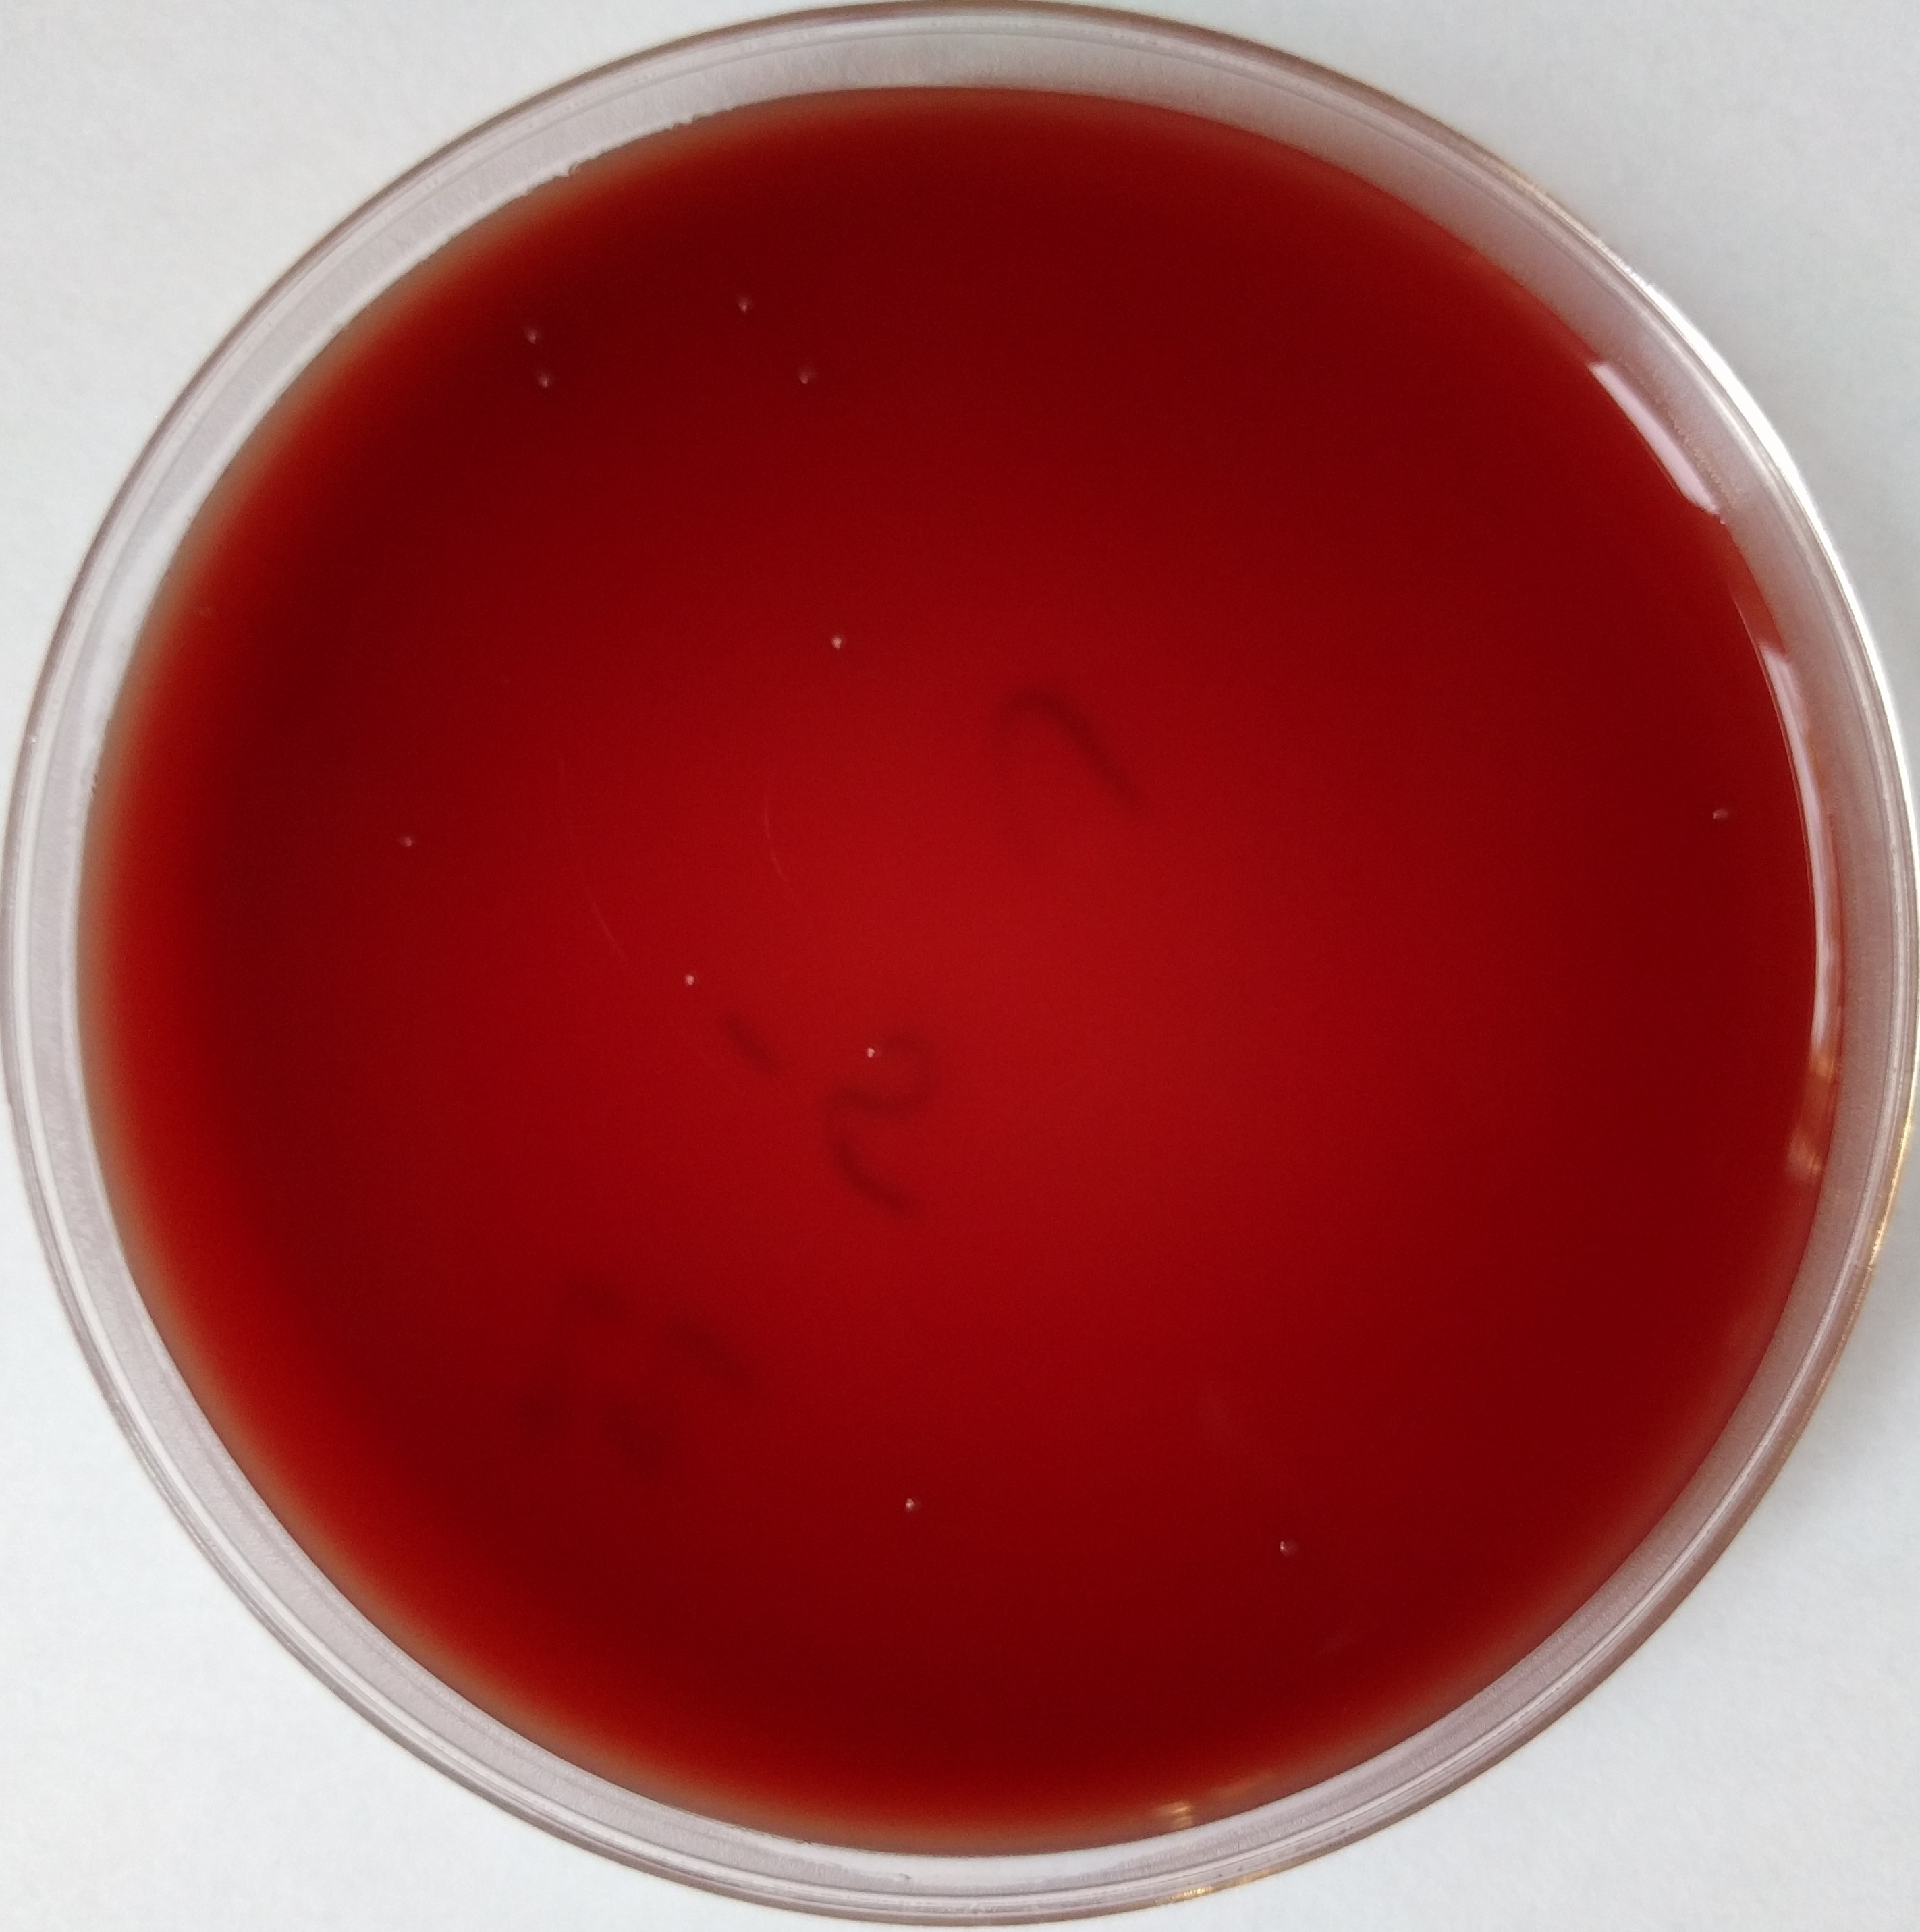sp07: (661, 925, 723, 1009), (367, 810, 436, 886), (1248, 1524, 1336, 1572), (494, 308, 549, 366), (527, 357, 578, 413), (888, 1482, 965, 1519), (847, 1028, 902, 1076), (821, 621, 863, 675), (791, 352, 830, 410), (712, 288, 767, 329), (1702, 791, 1734, 839)
